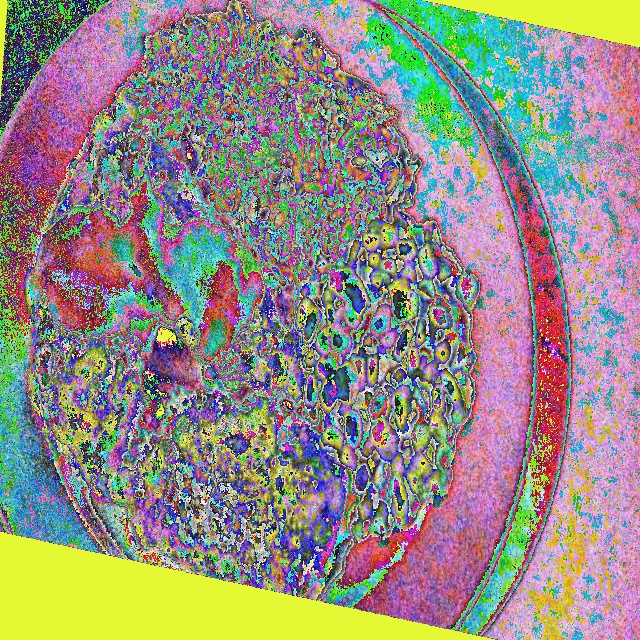background: (24, 0, 478, 599)
